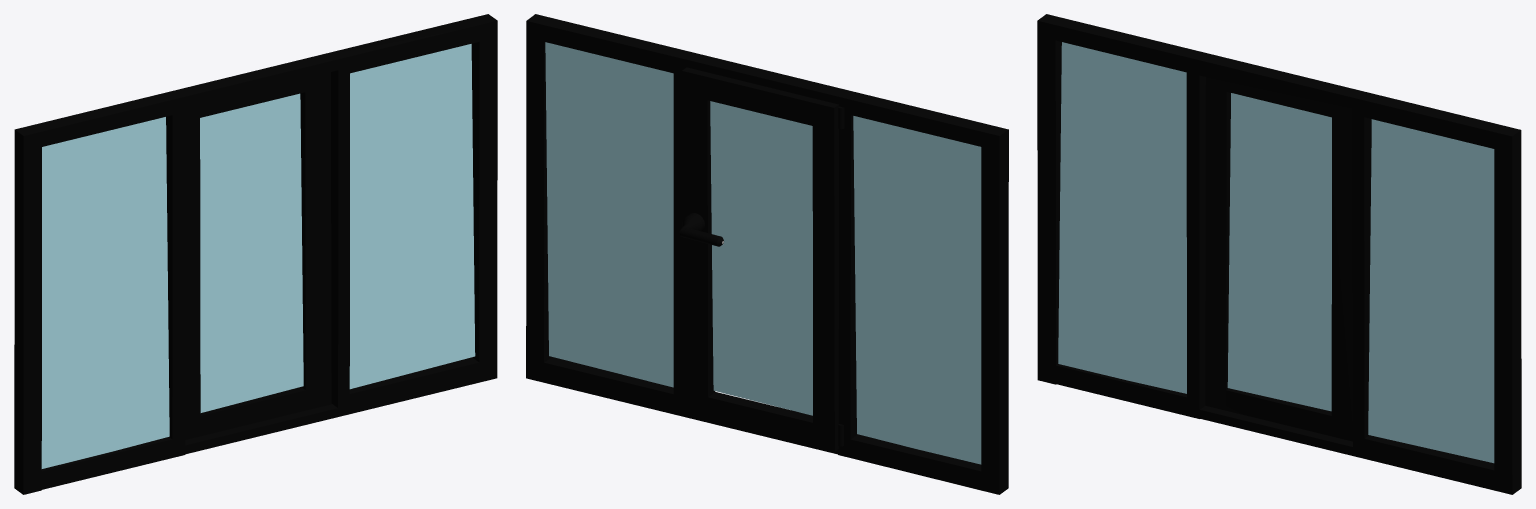
The model's file is 3side_window.glb.
3 renders of one model, left to right at view 1: azimuth 30°, elevation 25°; view 2: azimuth 150°, elevation 25°; view 3: azimuth 330°, elevation 25°, orthographic.
Visible parts, largest first — view 1: Plane, Plane_4, Plane_3, Plane_2, Plane_1; view 2: Plane, Plane_4, Plane_3, Plane_2, Plane_1, Tube; view 3: Plane, Plane_4, Plane_3, Plane_2, Plane_1.
Part boxes in pixels (x1,y1,x2,y2): Plane: (14, 14, 497, 494); Plane_4: (41, 117, 169, 468); Plane_3: (349, 44, 475, 389); Plane_2: (200, 93, 303, 412); Plane_1: (185, 72, 331, 439); Plane: (526, 14, 1008, 494); Plane_4: (853, 116, 981, 464); Plane_3: (545, 42, 673, 387); Plane_2: (710, 101, 812, 415); Plane_1: (682, 67, 838, 451); Tube: (679, 213, 723, 246); Plane: (1037, 14, 1521, 494); Plane_4: (1058, 42, 1186, 393); Plane_3: (1368, 119, 1494, 463); Plane_2: (1227, 93, 1331, 411); Plane_1: (1205, 77, 1352, 441).
Bounding box in the file's own units: 7.4 × 5.36 × 0.7783.
